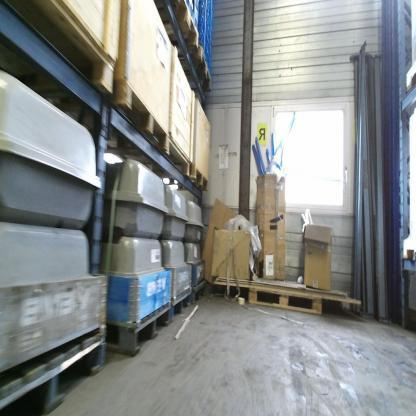pallets: (108, 101, 211, 193), (0, 324, 105, 413), (208, 274, 362, 317), (103, 295, 197, 356)
